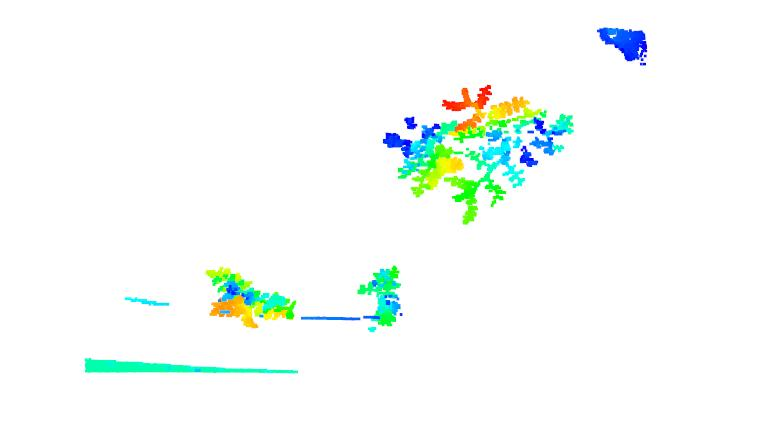chickpea: (445, 114, 574, 226), (441, 85, 576, 160), (381, 115, 464, 198), (206, 266, 298, 331), (355, 264, 407, 332)
